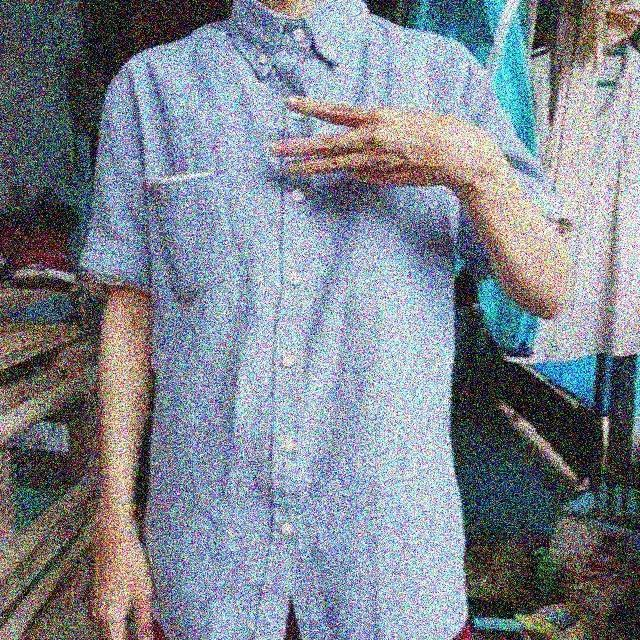E: (263, 79, 491, 203)
